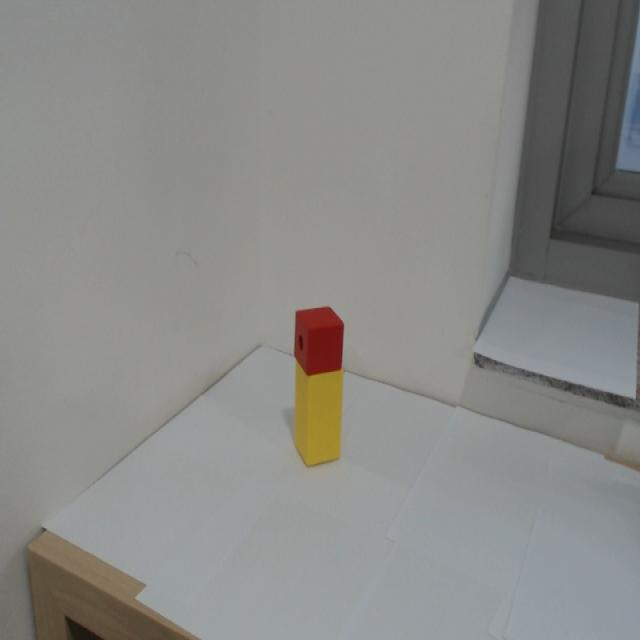cube: (293, 304, 345, 376)
